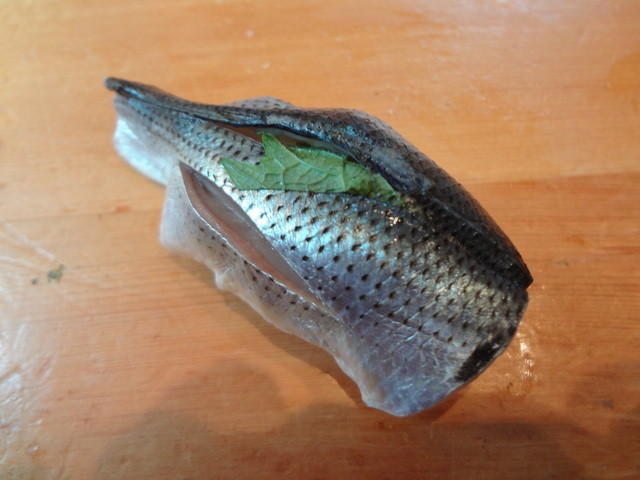spotted-shad: (101, 72, 539, 426)
